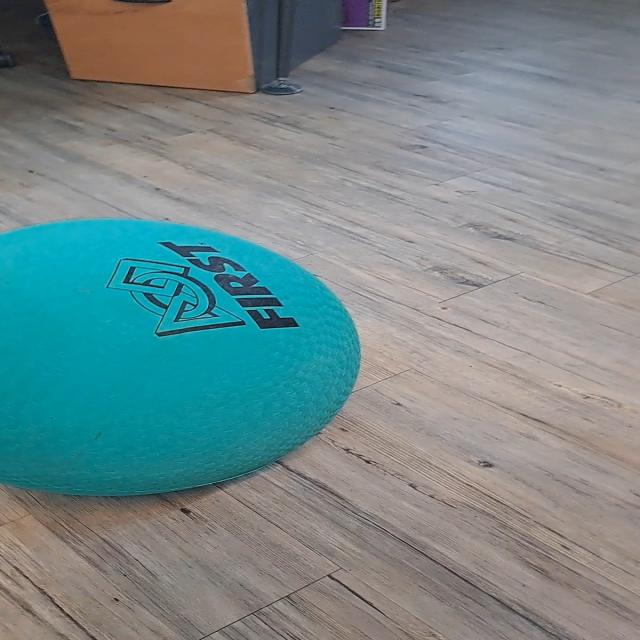ALGAE: (1, 216, 363, 498)
